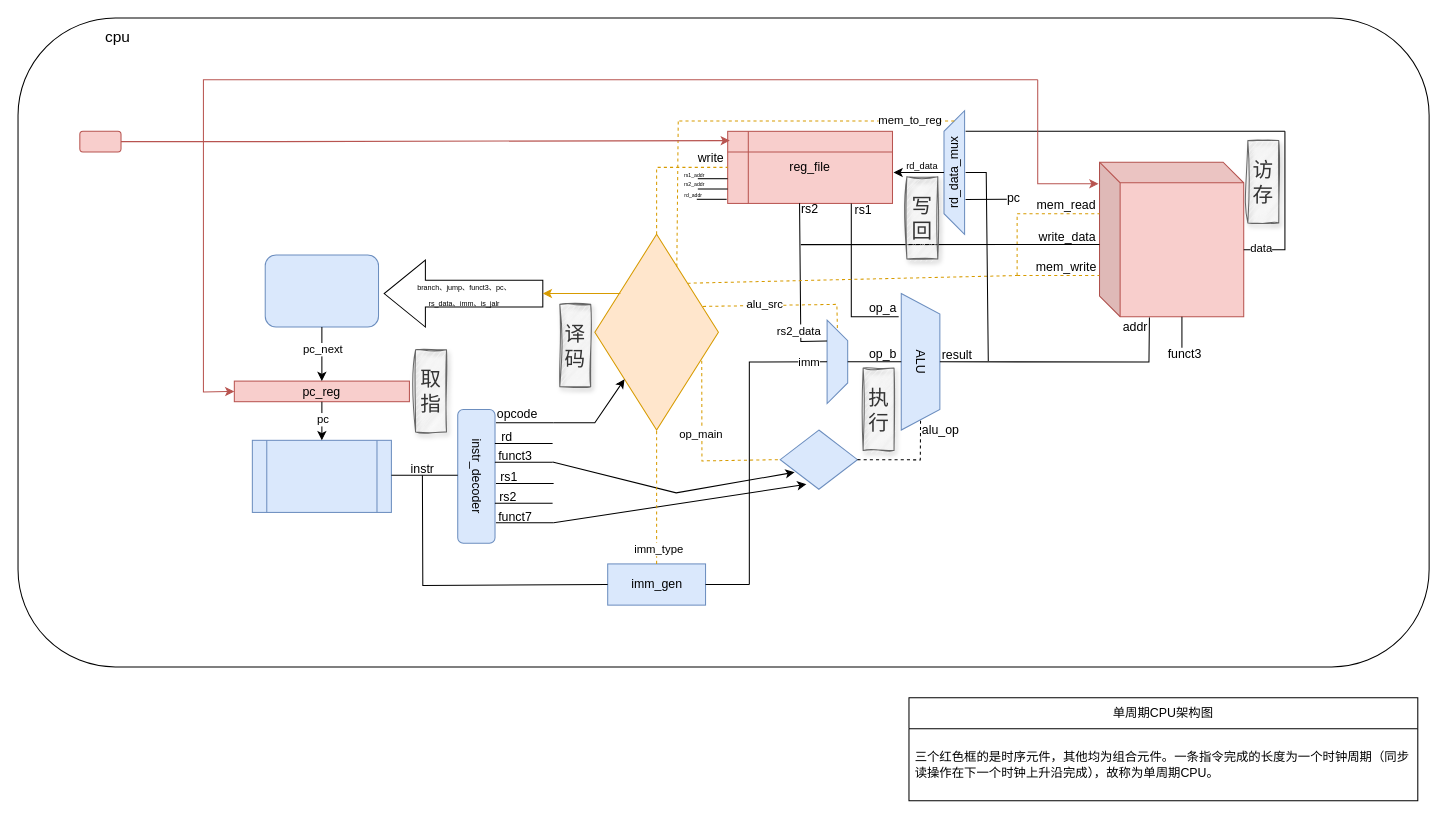
Some shapes in this 1447 by 819 pixel diagram are drawn without their labels. Here are the shapes that lost their labels. From the top down, the centre of each, then its label:
At pixel 100 141: "clk".
At pixel 1171 239: "data_mem".
At pixel 321 290: "branch_unit".
At pixel 656 331: "control".
At pixel 837 361: "opb_mux".
At pixel 321 475: "instr_mem".
At pixel 818 459: "alu_control".
